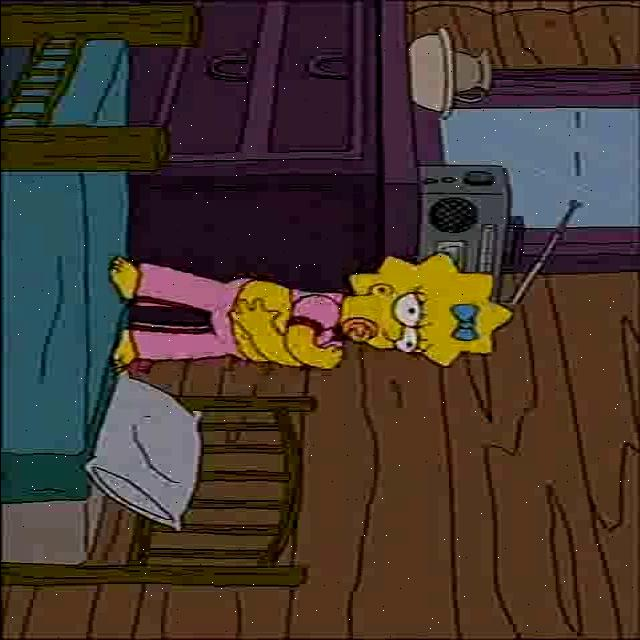Maggie Simpson: (333, 250, 515, 372)
